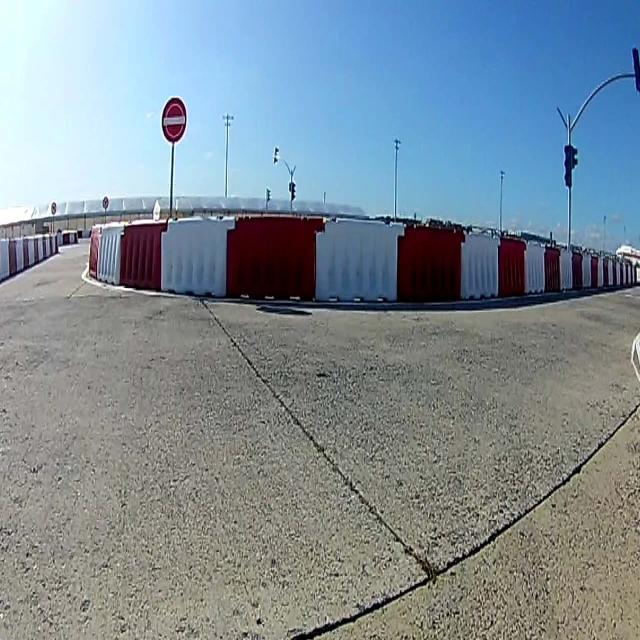girisyok: (163, 100, 187, 140)
